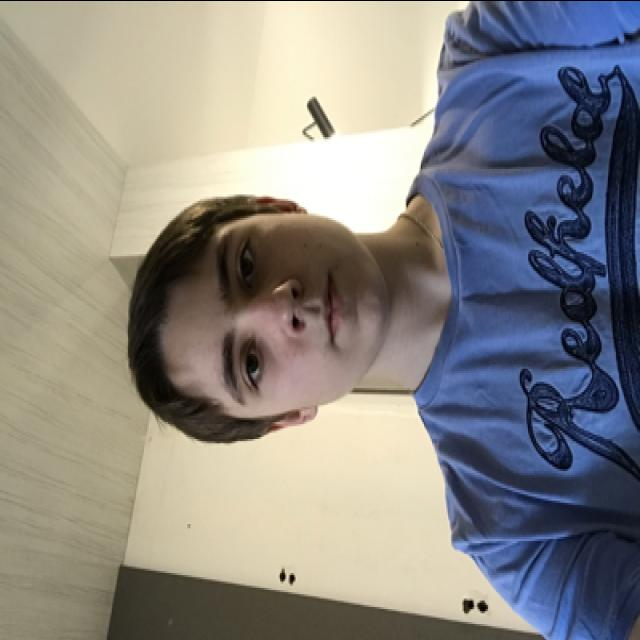without_mask: (204, 212, 390, 414)
